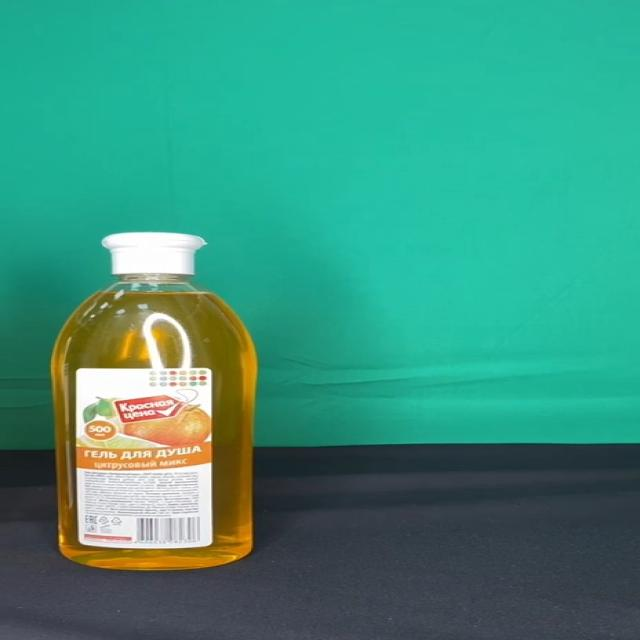Bottle: (49, 233, 258, 571)
Cap: (101, 233, 206, 276)
